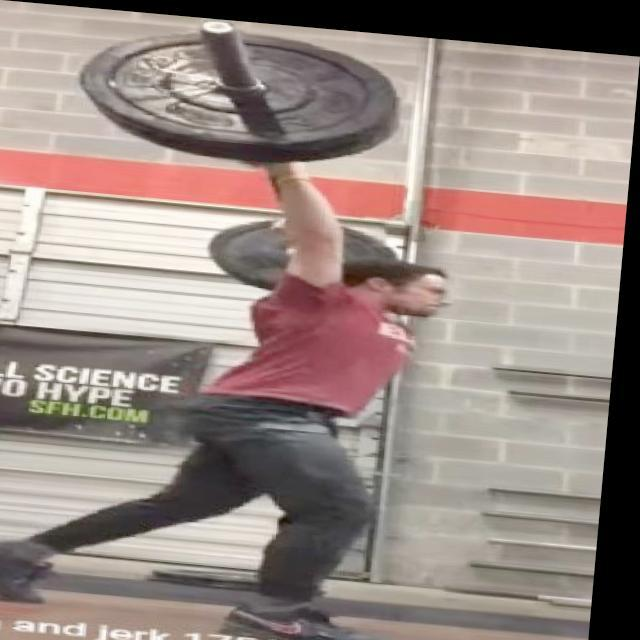barbell: (75, 8, 406, 159)
